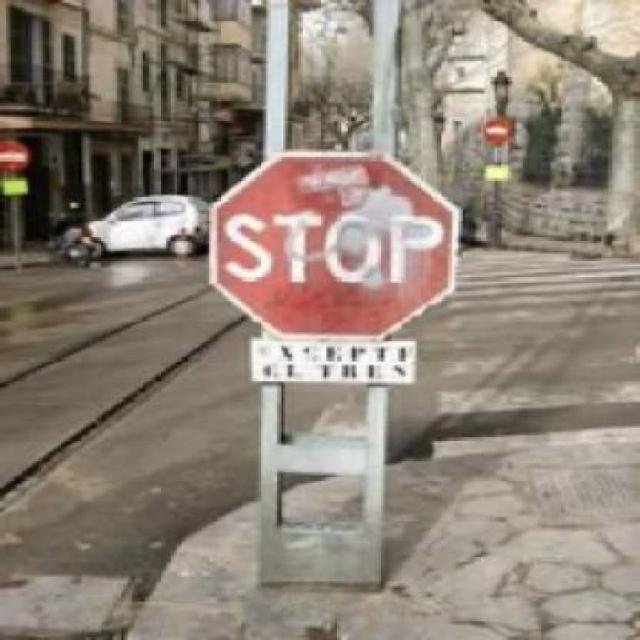Stop_Sign: (208, 151, 460, 337)
